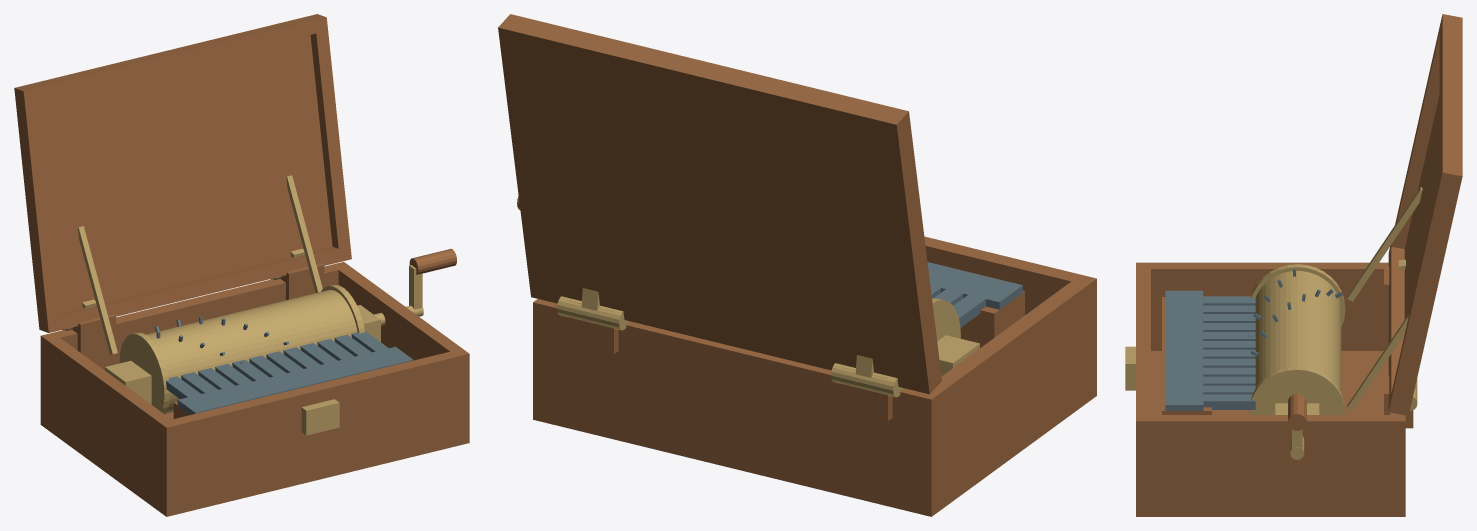
The picture shows the model from 3 angles, left to right: view 1: azimuth 30°, elevation 25°; view 2: azimuth 150°, elevation 25°; view 3: azimuth 270°, elevation 25°; orthographic projection. The views are drawn at different scales.
Parts seen in each view (by area): view 1: WholeFixedRaisedRecessedLid, WholeGroundFootOpenCase, WholePinnedMusicCylinder, WholeContinuousTwelveTongueComb, LeftWholeCylinderEndFlange, WholeBlankFrontLatchAppearance, WholeFixedLidStay_-0.22, WholeRearHingeRoot_-0.22, WholeDrumBearingBlock_-0.242, WholeFixedLidStay_0.22, WholeRearHingeRoot_0.22, WholeSideCrankGrip (+1 smaller); view 2: WholeFixedRaisedRecessedLid, WholeGroundFootOpenCase, WholeContinuousTwelveTongueComb, WholeCombGroundedSupport, WholeRearHingeRoot_-0.22, WholeRearHingeRoot_0.22, WholeFixedHingePin_-0.22, WholeFixedHingePin_0.22, WholeDrumBearingBlock_-0.242, LeftWholeCylinderEndFlange; view 3: WholeGroundFootOpenCase, WholeFixedRaisedRecessedLid, WholeContinuousTwelveTongueComb, WholePinnedMusicCylinder, RightWholeCylinderEndFlange, WholeFixedLidStay_-0.22, WholeFixedLidStay_0.22, LeftWholeCylinderEndFlange, WholeCombGroundedSupport, WholeSideCrankGrip, WholeBlankFrontLatchAppearance.
Part boxes in pixels (x1,y1,x2,y2): WholeFixedRaisedRecessedLid: (14, 14, 351, 332); WholeGroundFootOpenCase: (40, 262, 469, 516); WholePinnedMusicCylinder: (146, 289, 357, 413); WholeContinuousTwelveTongueComb: (166, 331, 413, 414); LeftWholeCylinderEndFlange: (119, 332, 170, 414); WholeBlankFrontLatchAppearance: (301, 399, 339, 435); WholeFixedLidStay_-0.22: (78, 226, 117, 354); WholeRearHingeRoot_-0.22: (72, 314, 115, 355); WholeDrumBearingBlock_-0.242: (105, 361, 151, 404); WholeFixedLidStay_0.22: (286, 175, 322, 292); WholeRearHingeRoot_0.22: (280, 263, 324, 300); WholeSideCrankGrip: (409, 249, 456, 274); WholeFixedRaisedRecessedLid: (498, 14, 941, 394); WholeGroundFootOpenCase: (533, 236, 1096, 516); WholeContinuousTwelveTongueComb: (927, 262, 1022, 327); WholeCombGroundedSupport: (960, 291, 1024, 347); WholeRearHingeRoot_-0.22: (841, 367, 892, 421); WholeRearHingeRoot_0.22: (567, 301, 618, 354); WholeFixedHingePin_-0.22: (831, 363, 902, 397); WholeFixedHingePin_0.22: (557, 296, 628, 330); WholeDrumBearingBlock_-0.242: (937, 335, 979, 375); LeftWholeCylinderEndFlange: (932, 298, 960, 340); WholeGroundFootOpenCase: (1136, 262, 1405, 516); WholeFixedRaisedRecessedLid: (1388, 14, 1462, 415); WholeContinuousTwelveTongueComb: (1165, 290, 1255, 410); WholePinnedMusicCylinder: (1255, 271, 1341, 392); RightWholeCylinderEndFlange: (1249, 367, 1345, 414); WholeFixedLidStay_-0.22: (1347, 187, 1422, 301); WholeFixedLidStay_0.22: (1347, 313, 1409, 410); LeftWholeCylinderEndFlange: (1251, 264, 1345, 327); WholeCombGroundedSupport: (1162, 297, 1211, 414); WholeSideCrankGrip: (1288, 393, 1306, 430); WholeBlankFrontLatchAppearance: (1125, 346, 1135, 390).
Size of the model in its own units: 0.763 by 0.6477 by 0.575.
